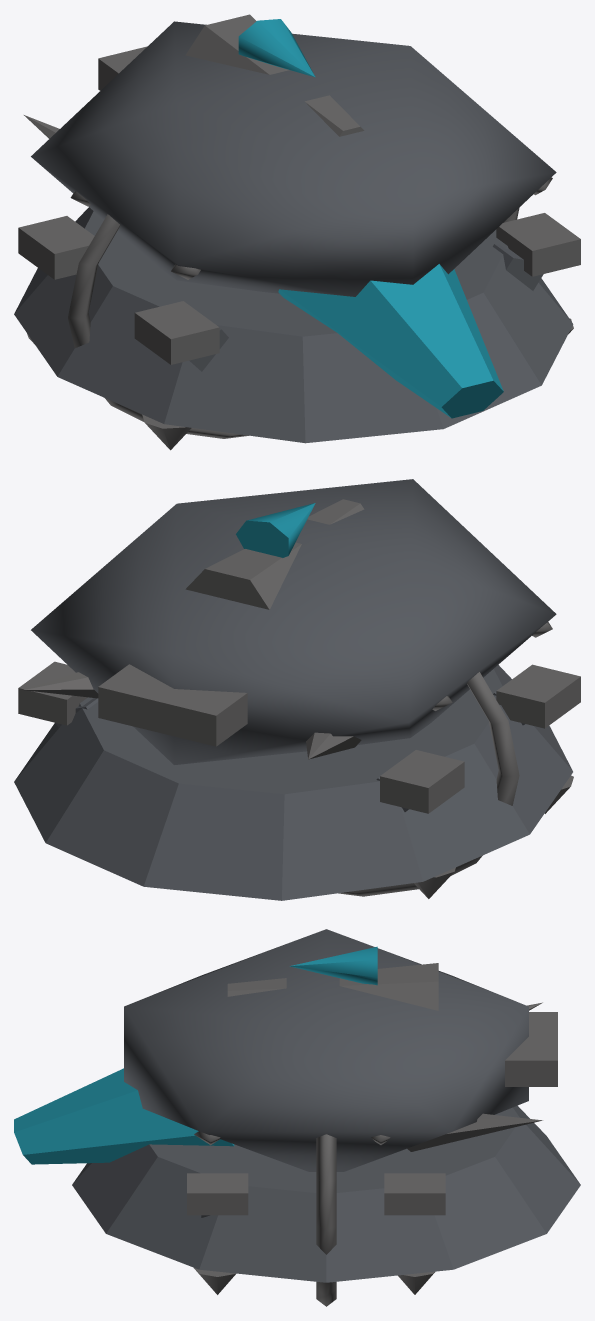
The model's file is carapace.glb.
The picture shows the model from 3 angles, top to bottom: view 1: azimuth 30°, elevation 25°; view 2: azimuth 150°, elevation 25°; view 3: azimuth 270°, elevation 25°; orthographic projection. The views are drawn at different scales.
Parts seen in each view (by area): view 1: body, core; view 2: body, core; view 3: body, core.
Part boxes in pixels (x1,y1,x2,y2): body: (14,14,580,450); core: (238,19,503,418); body: (14,479,580,900); core: (236,503,315,557); body: (72,929,580,1306); core: (14,946,377,1164).
Size of the model in its own units: 0.89 by 0.7 by 1.09.
